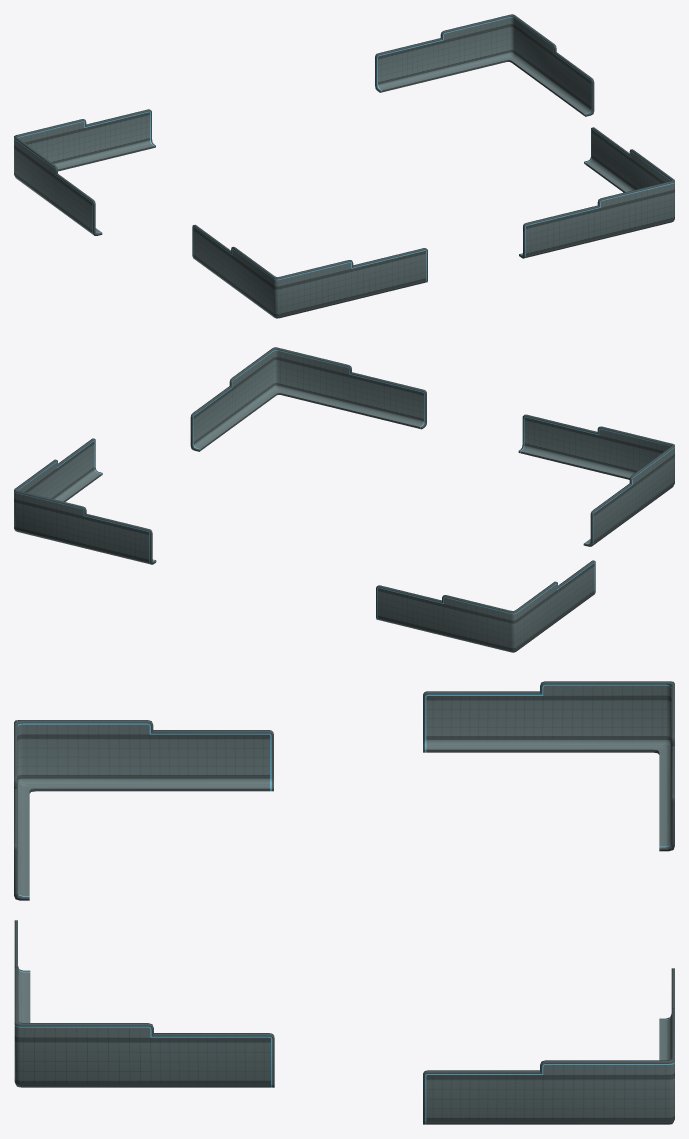
Rendered from SciencePod_Screens.fbx.
3 renders of one model, top to bottom at view 1: azimuth 30°, elevation 25°; view 2: azimuth 150°, elevation 25°; view 3: azimuth 270°, elevation 25°, orthographic. The views are drawn at different scales.
Visible parts, largest first — view 1: SciencePod_Screen_01; view 2: SciencePod_Screen_01; view 3: SciencePod_Screen_01.
Part boxes in pixels (box(x1,y1,x2,y2)): SciencePod_Screen_01: box(14, 14, 674, 318); SciencePod_Screen_01: box(14, 347, 674, 652); SciencePod_Screen_01: box(14, 681, 674, 1124).
Bounding box in the file's own units: 6916 × 550 × 5076.
